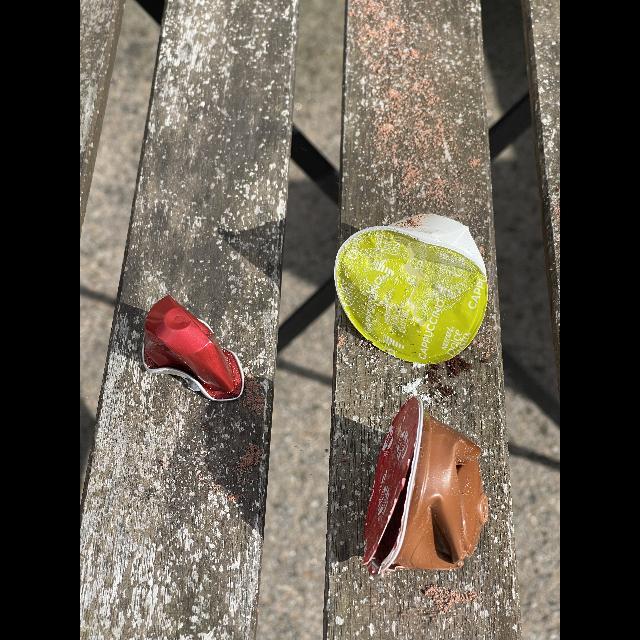damaged_capsule: (354, 390, 498, 588), (330, 207, 502, 366), (121, 290, 251, 406)
